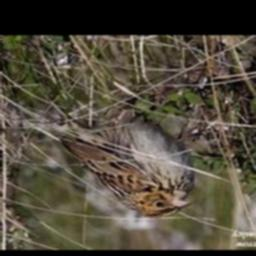Sparrow: (0, 99, 201, 219)
